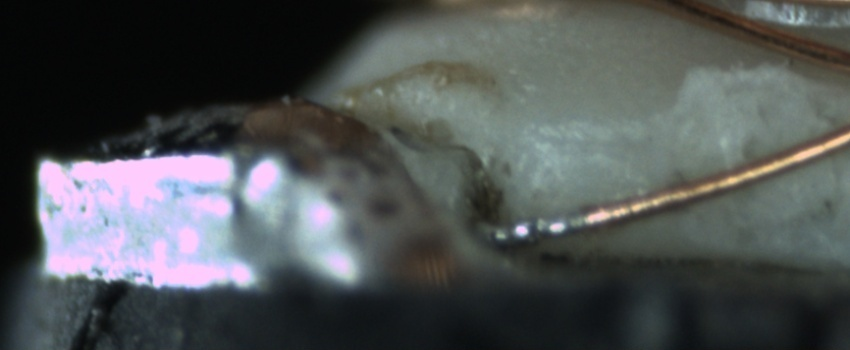DL: (531, 109, 658, 172)
TS: (484, 203, 602, 248)
TTCW: (483, 190, 655, 248)
